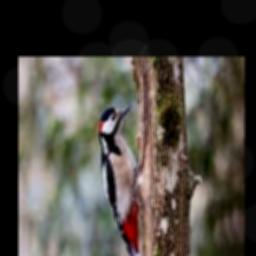Woodpecker: (98, 102, 144, 256)
